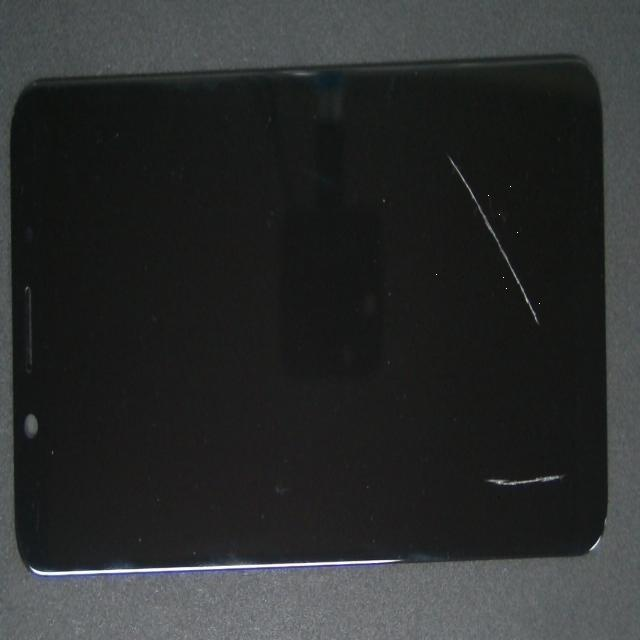scratch: (230, 250, 640, 640), (202, 31, 640, 242)
